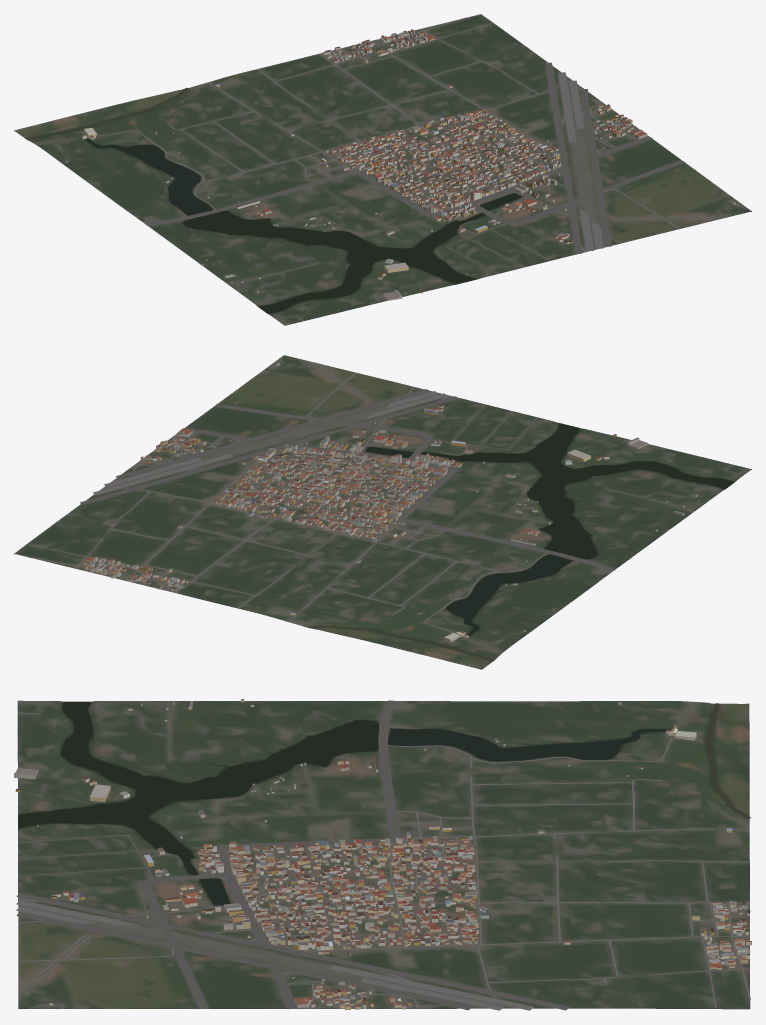
3 views of the same model, one above another, from view 1: azimuth 30°, elevation 25°; view 2: azimuth 150°, elevation 25°; view 3: azimuth 270°, elevation 25° (orthographic). The views are drawn at different scales.
Parts seen in each view (by area): view 1: ground, buildings, roads, water; view 2: ground, buildings, roads, water; view 3: ground, buildings, roads, water.
Part boxes in pixels (x1,y1,x2,y2): ground: (14, 14, 751, 325); buildings: (65, 29, 735, 300); roads: (98, 17, 747, 321); water: (25, 87, 521, 313); ground: (14, 355, 751, 669); buildings: (82, 363, 699, 642); roads: (28, 358, 733, 632); water: (308, 423, 733, 661); ground: (17, 700, 750, 1009); buildings: (14, 699, 751, 1010); roads: (16, 700, 750, 1010); water: (18, 701, 751, 905).
Size of the model in its own units: 1409 by 33.31 by 1414.
